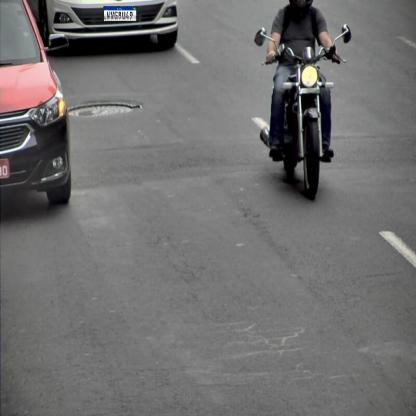PlacaM: (103, 6, 137, 22)
